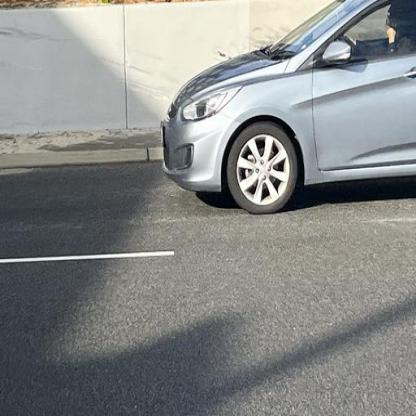Tire: (226, 120, 298, 215)
